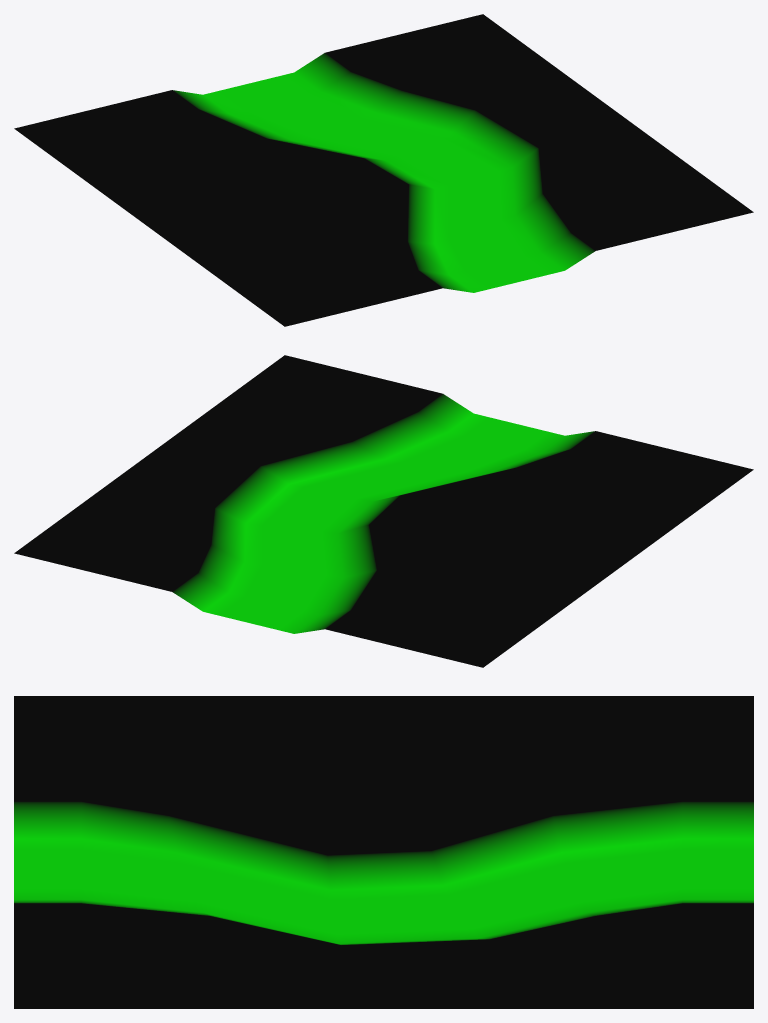
Rendered from SM_Ground_8m_PathwayCurve.FBX.
3 views of the same model, one above another, from view 1: azimuth 30°, elevation 25°; view 2: azimuth 150°, elevation 25°; view 3: azimuth 270°, elevation 25° (orthographic). The views are drawn at different scales.
Parts seen in each view (by area): view 1: SM_Ground_8m_PathwayCurve; view 2: SM_Ground_8m_PathwayCurve; view 3: SM_Ground_8m_PathwayCurve.
Boxes of the visible parts, x1,y1,x2,y2 form: SM_Ground_8m_PathwayCurve: [14, 14, 753, 326]; SM_Ground_8m_PathwayCurve: [14, 355, 753, 667]; SM_Ground_8m_PathwayCurve: [14, 696, 753, 1008].
Size of the model in its own units: 800 by 800 by 20.
